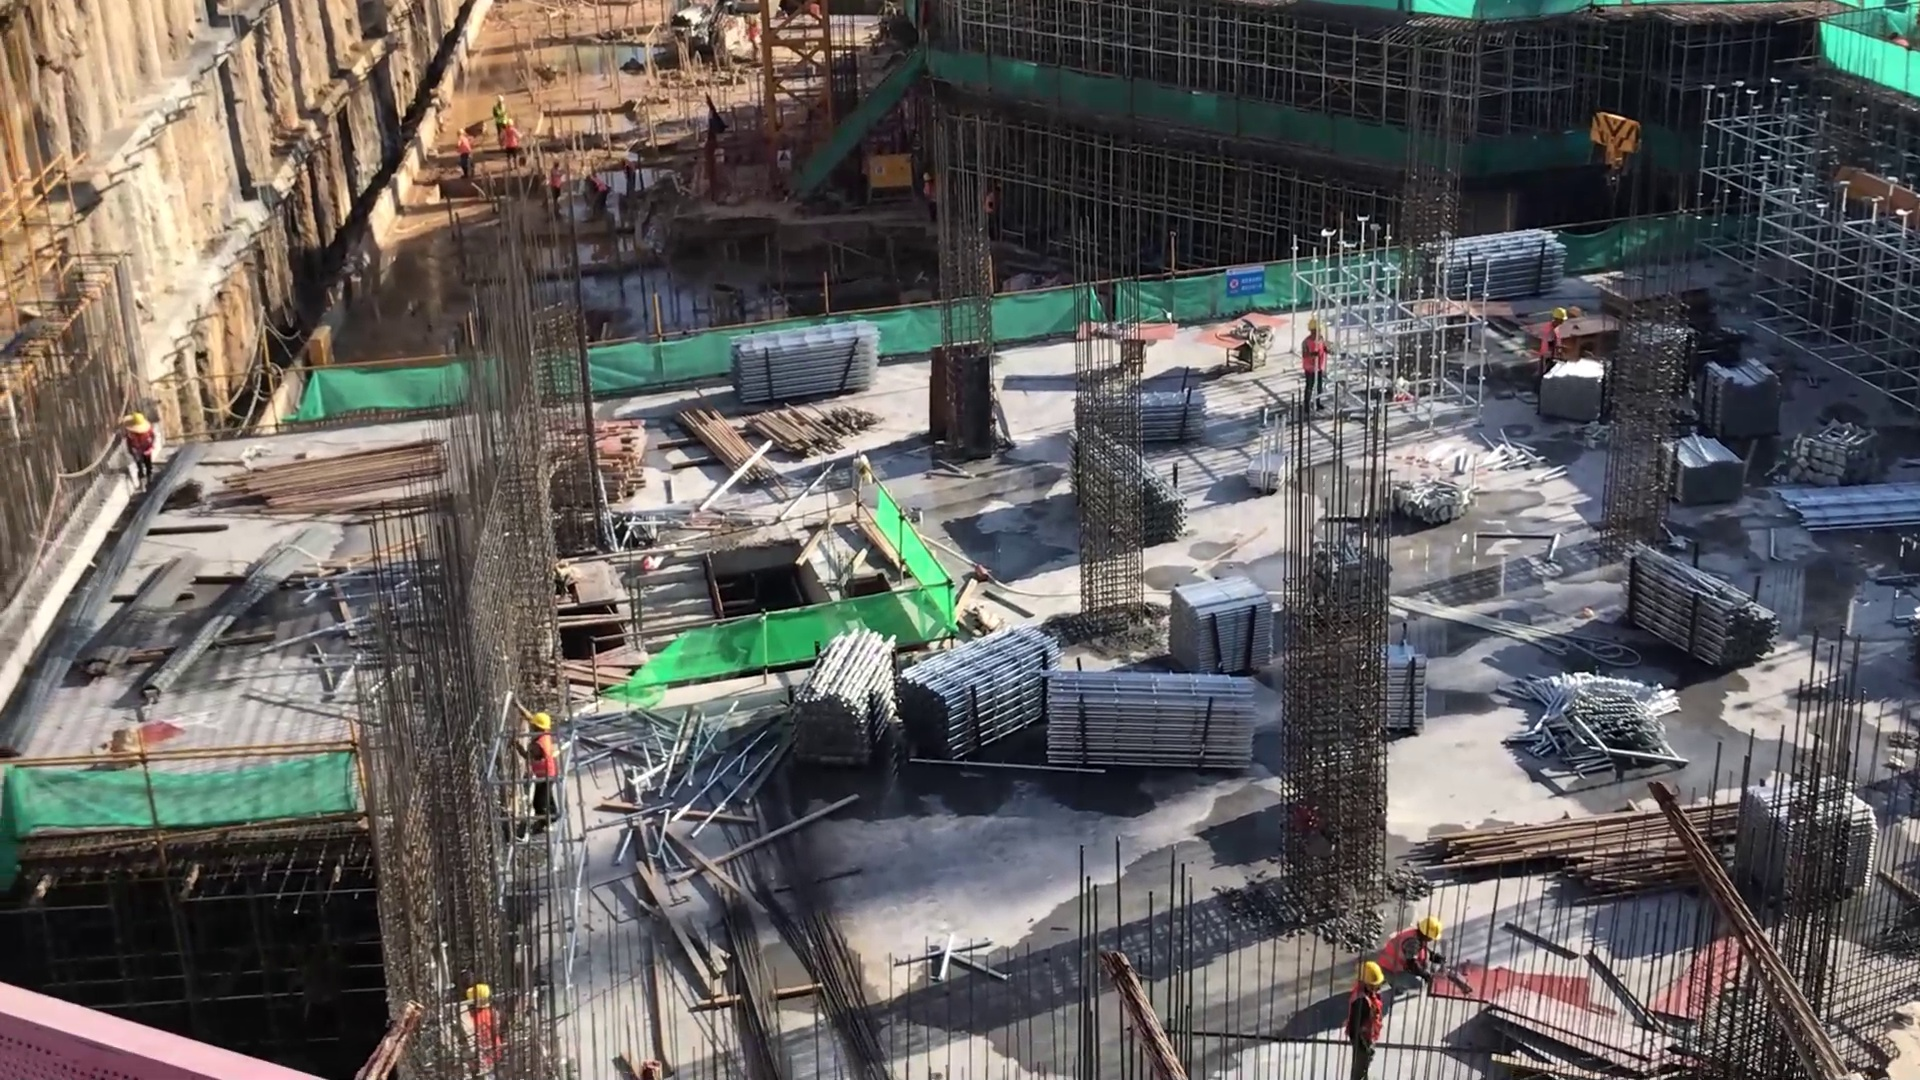helmet: (1352, 959, 1388, 995), (461, 978, 496, 1012), (1412, 916, 1443, 947), (524, 707, 550, 737), (1549, 303, 1571, 326), (1303, 316, 1324, 338)
person: (502, 691, 567, 840), (1338, 956, 1393, 1080), (1376, 910, 1448, 989), (457, 978, 510, 1080), (114, 403, 163, 495), (1295, 313, 1333, 417), (1533, 301, 1572, 400)
vest: (461, 1000, 507, 1075), (1337, 987, 1389, 1047), (517, 734, 562, 792), (1380, 927, 1427, 971), (1299, 337, 1333, 378), (1537, 323, 1565, 369), (126, 433, 153, 461)
